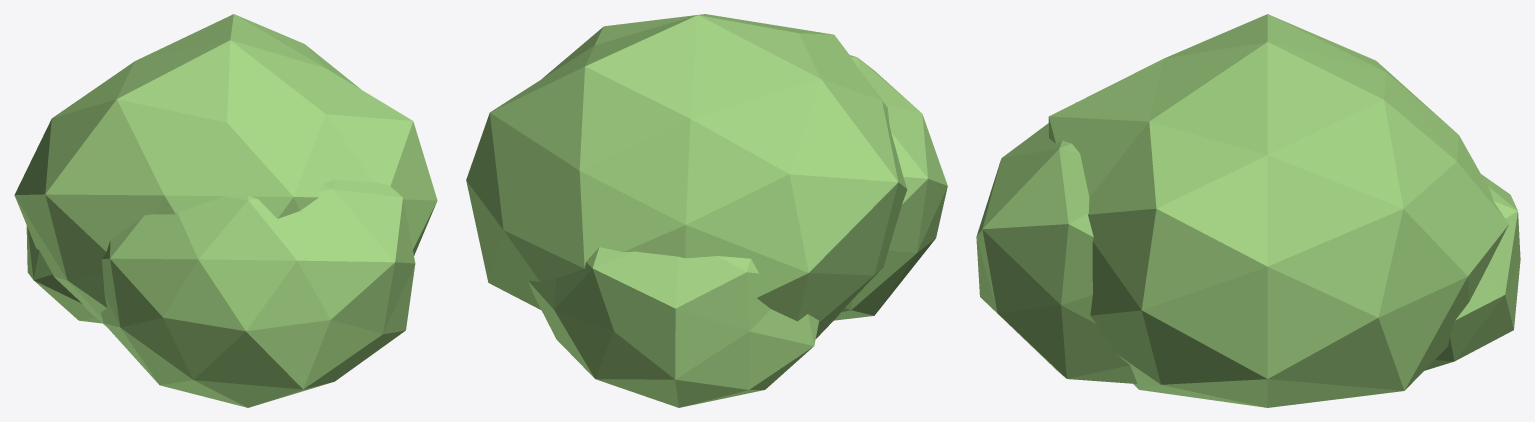
The model's file is arbusto_0.fbx.
3 views of the same model, side by side, from view 1: azimuth 30°, elevation 25°; view 2: azimuth 150°, elevation 25°; view 3: azimuth 270°, elevation 25° (orthographic). The views are drawn at different scales.
Parts seen in each view (by area): view 1: arbusto_0~Folhagem 0@leaf, arbusto_0~Folhagem 2@leaf, arbusto_0~Folhagem 1@leaf; view 2: arbusto_0~Folhagem 0@leaf, arbusto_0~Folhagem 1@leaf, arbusto_0~Folhagem 2@leaf; view 3: arbusto_0~Folhagem 0@leaf, arbusto_0~Folhagem 2@leaf, arbusto_0~Folhagem 1@leaf.
Boxes of the visible parts, box(x1,y1,x2,y2) form: arbusto_0~Folhagem 0@leaf: box(14, 14, 437, 325); arbusto_0~Folhagem 2@leaf: box(101, 179, 415, 407); arbusto_0~Folhagem 1@leaf: box(26, 225, 102, 323); arbusto_0~Folhagem 0@leaf: box(466, 14, 907, 338); arbusto_0~Folhagem 1@leaf: box(528, 247, 818, 407); arbusto_0~Folhagem 2@leaf: box(834, 54, 947, 320); arbusto_0~Folhagem 0@leaf: box(1048, 14, 1508, 407); arbusto_0~Folhagem 2@leaf: box(976, 102, 1137, 383); arbusto_0~Folhagem 1@leaf: box(1424, 174, 1520, 370).
Size of the model in its own units: 1.52 by 1.24 by 1.7.
